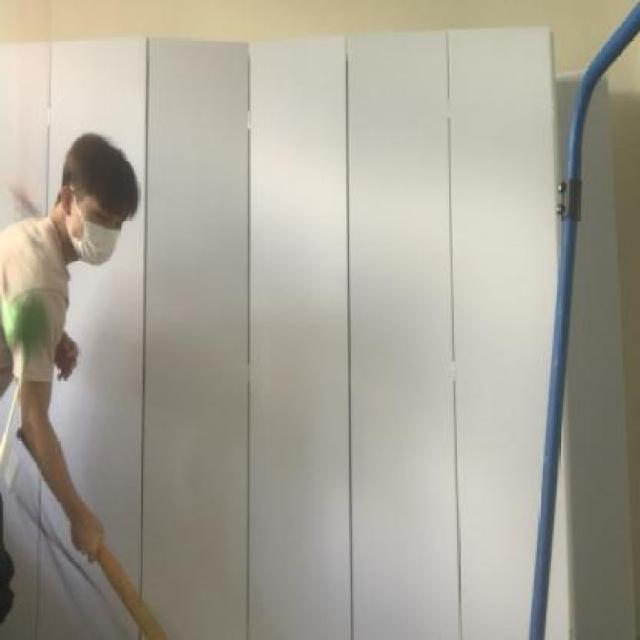baseball: (0, 280, 58, 369)
